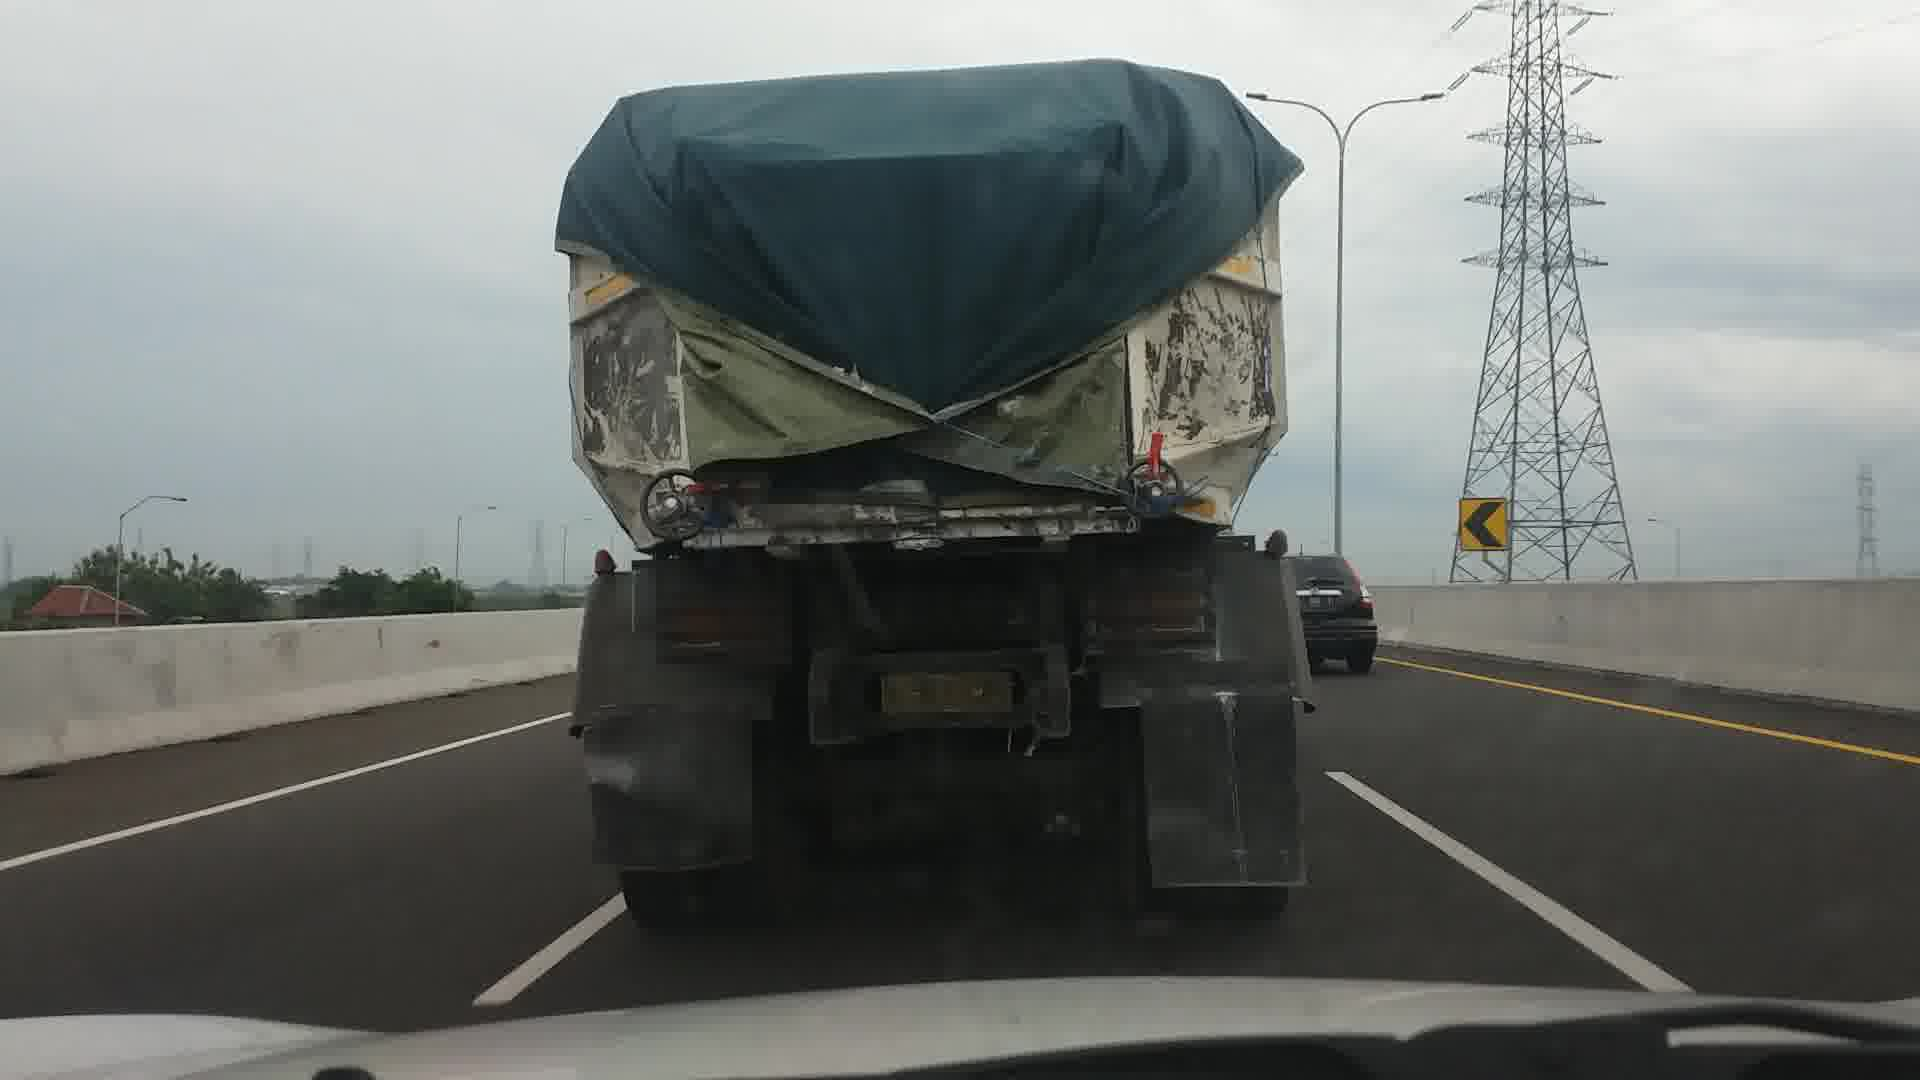plate_positive: (878, 673, 1011, 713)
